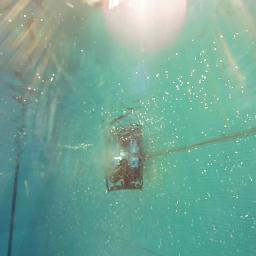back: (105, 156, 145, 194), (106, 157, 144, 192)
